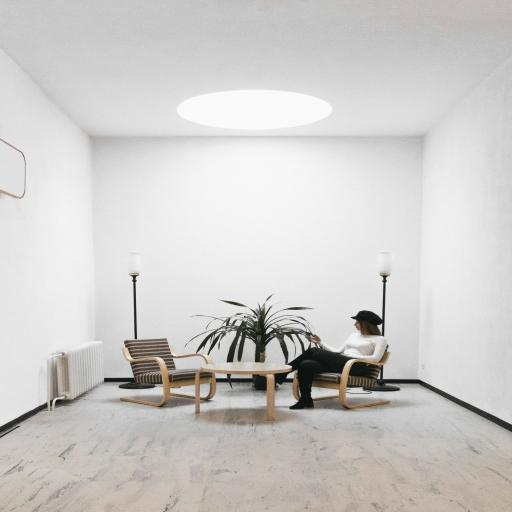chair: (292, 340, 391, 410), (119, 338, 216, 407)
desk: (195, 362, 292, 421)
wall: (0, 0, 511, 432)
